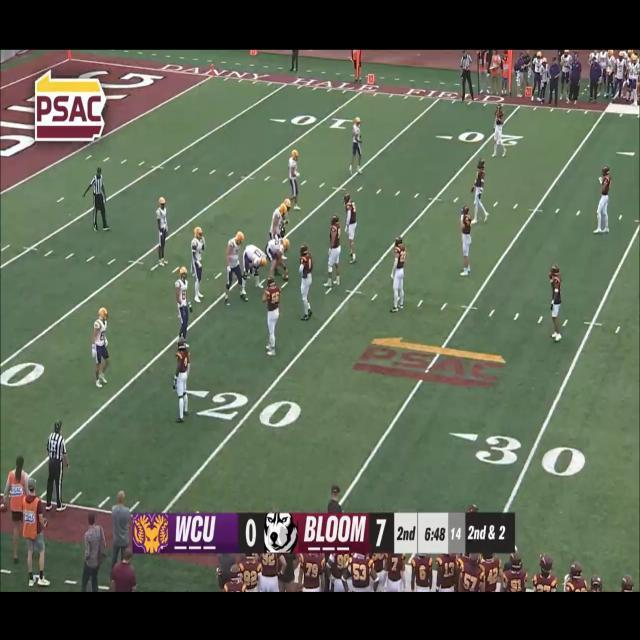football: (282, 270, 288, 282)
